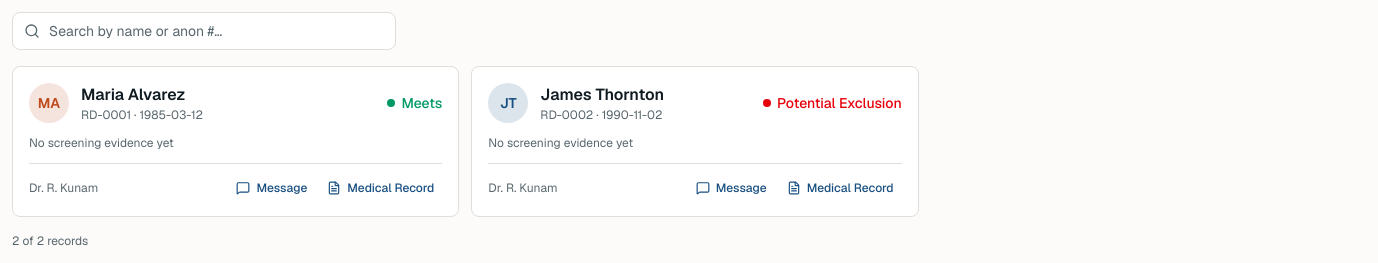
PatientsTable › shows a no-match message when nothing filters in
The image size is (1378, 263).
Step 1. Type "nonexistent" into the field named "Search patients" → (204, 31), box [12,12,396,50]
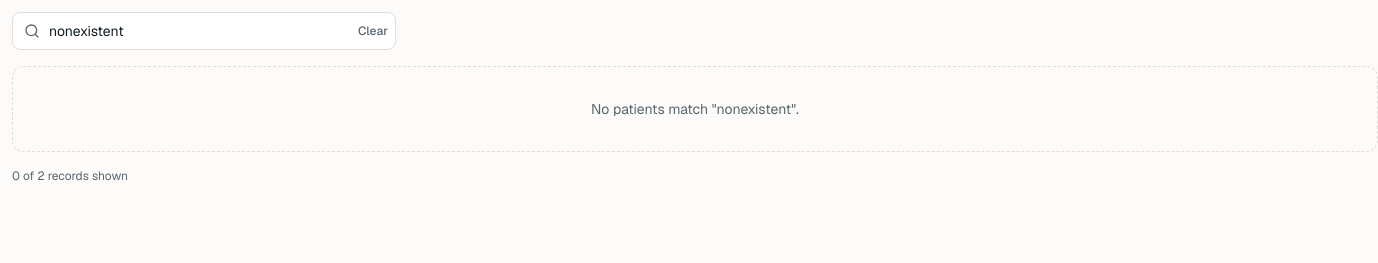
Expected: the text "No patients match \"nonexistent\"." is shown, [12,66,1377,152]
